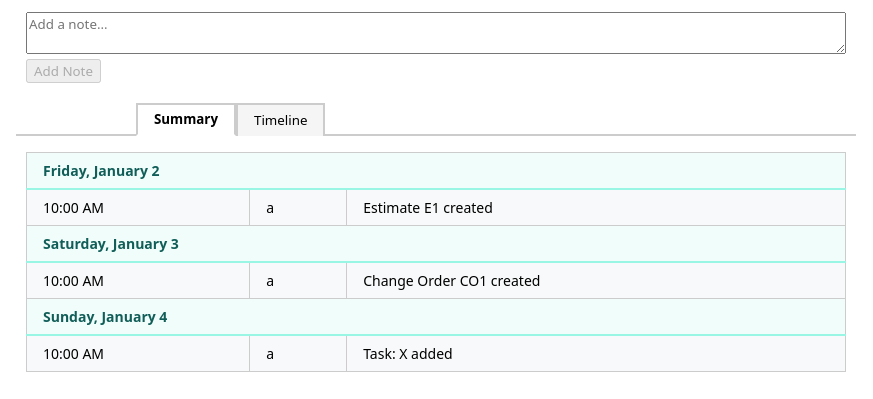
JobHistorySection › color-codes by object type, sharing one class for estimates and change orders
Click the button "Timeline": [281, 119] box [236,103,326,136]
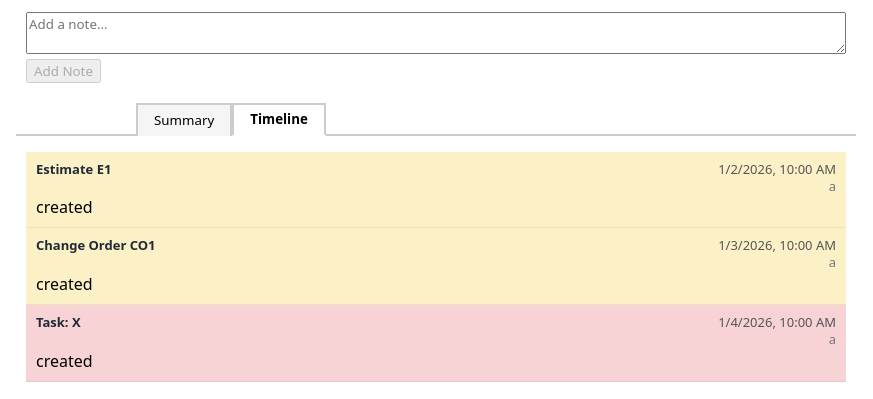
Now the number of list items with class "ot-estimate" is 2, box [26,152,846,228]; [26,228,846,305]
Now the list item with class "ot-task" is shown, box [26,305,846,382]
